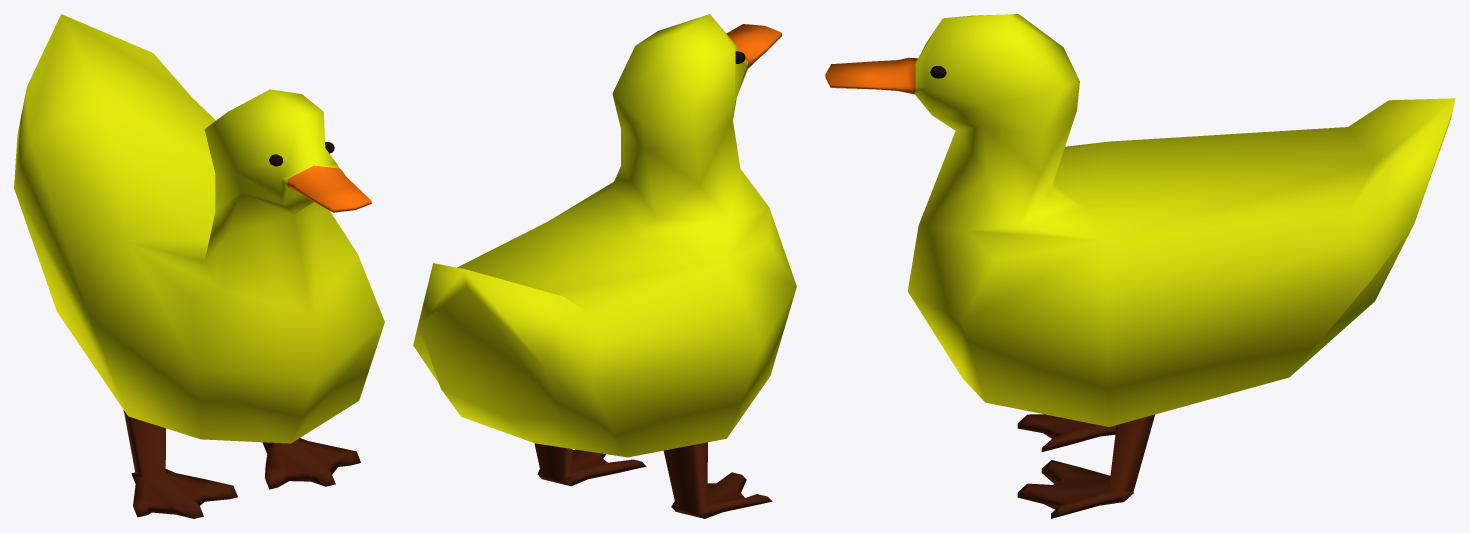
File: Duck.fbx
The picture shows the model from 3 angles, left to right: view 1: azimuth 30°, elevation 25°; view 2: azimuth 150°, elevation 25°; view 3: azimuth 270°, elevation 25°; orthographic projection. The views are drawn at different scales.
Parts seen in each view (by area): view 1: DuckWhite.001; view 2: DuckWhite.001; view 3: DuckWhite.001.
Part boxes in pixels (x1,y1,x2,y2): DuckWhite.001: (14,14,384,518); DuckWhite.001: (413,14,796,518); DuckWhite.001: (825,14,1455,518).
Size of the model in its own units: 30.34 by 48.41 by 61.6.
